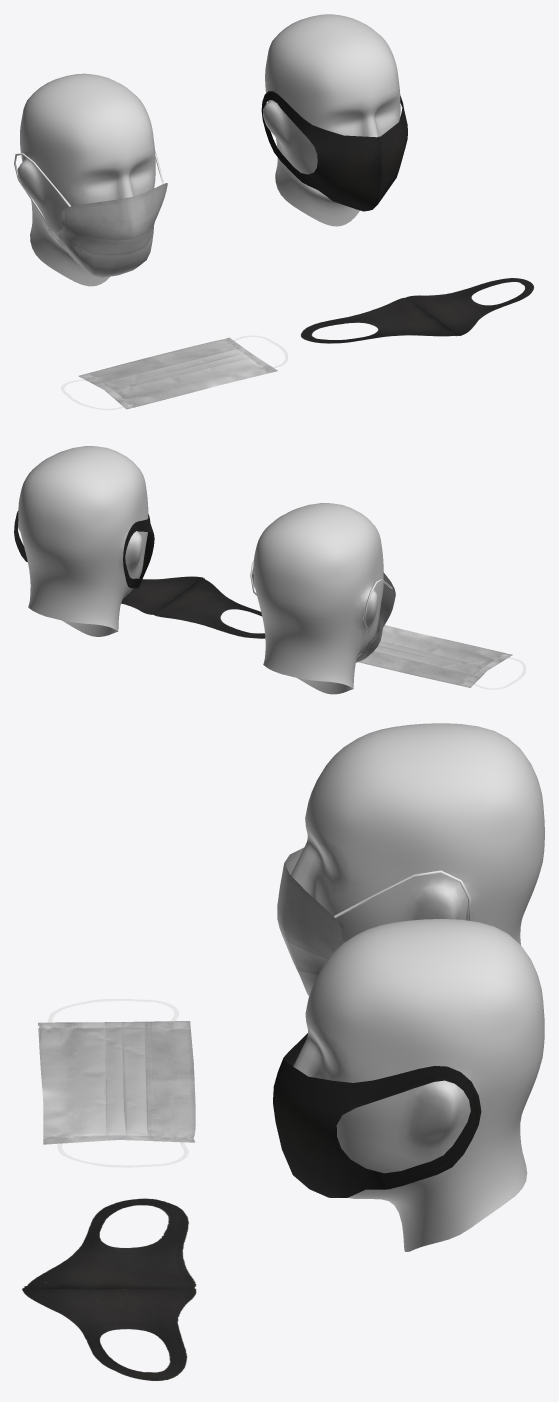
The model's file is face_masks.glb.
3 renders of one model, top to bottom at view 1: azimuth 30°, elevation 25°; view 2: azimuth 150°, elevation 25°; view 3: azimuth 270°, elevation 25°, orthographic. The views are drawn at different scales.
Parts seen in each view (by area): view 1: basicHead, basicHead1, BlackMask:blackmask, MedicalMask1:pmedmask, MedicalMask1:medmask, BlackMask:pblackmask; view 2: basicHead, basicHead1, MedicalMask1:pmedmask, BlackMask:pblackmask, BlackMask:blackmask, MedicalMask1:medmask; view 3: basicHead1, basicHead, MedicalMask1:pmedmask, BlackMask:pblackmask, BlackMask:blackmask, MedicalMask1:medmask.
Part boxes in pixels (x1,y1,x2,y2): basicHead: (17,73,155,286); basicHead1: (263,14,400,226); BlackMask:blackmask: (261,91,407,211); MedicalMask1:pmedmask: (78,337,277,409); MedicalMask1:medmask: (48,183,167,277); BlackMask:pblackmask: (300,278,534,343); basicHead: (252,503,383,694); basicHead1: (18,446,148,636); MedicalMask1:pmedmask: (358,625,512,687); BlackMask:pblackmask: (121,576,265,638); BlackMask:blackmask: (14,510,154,588); MedicalMask1:medmask: (356,572,395,662); basicHead1: (293,919,544,1251); basicHead: (291,723,544,944); MedicalMask1:pmedmask: (38,1021,195,1144); BlackMask:pblackmask: (22,1198,196,1380); BlackMask:blackmask: (273,1033,481,1197); MedicalMask1:medmask: (277,847,346,995).
Size of the model in its own units: 4.01 by 1.76 by 2.34.
5 materials, 4 textured.
